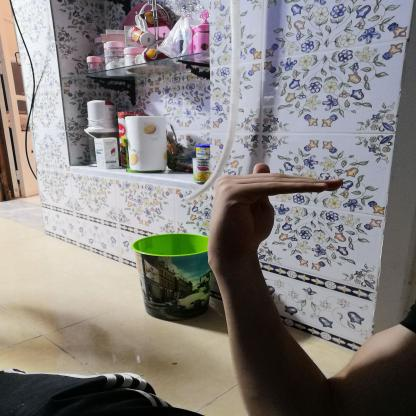KHAA: (194, 156, 361, 271)
